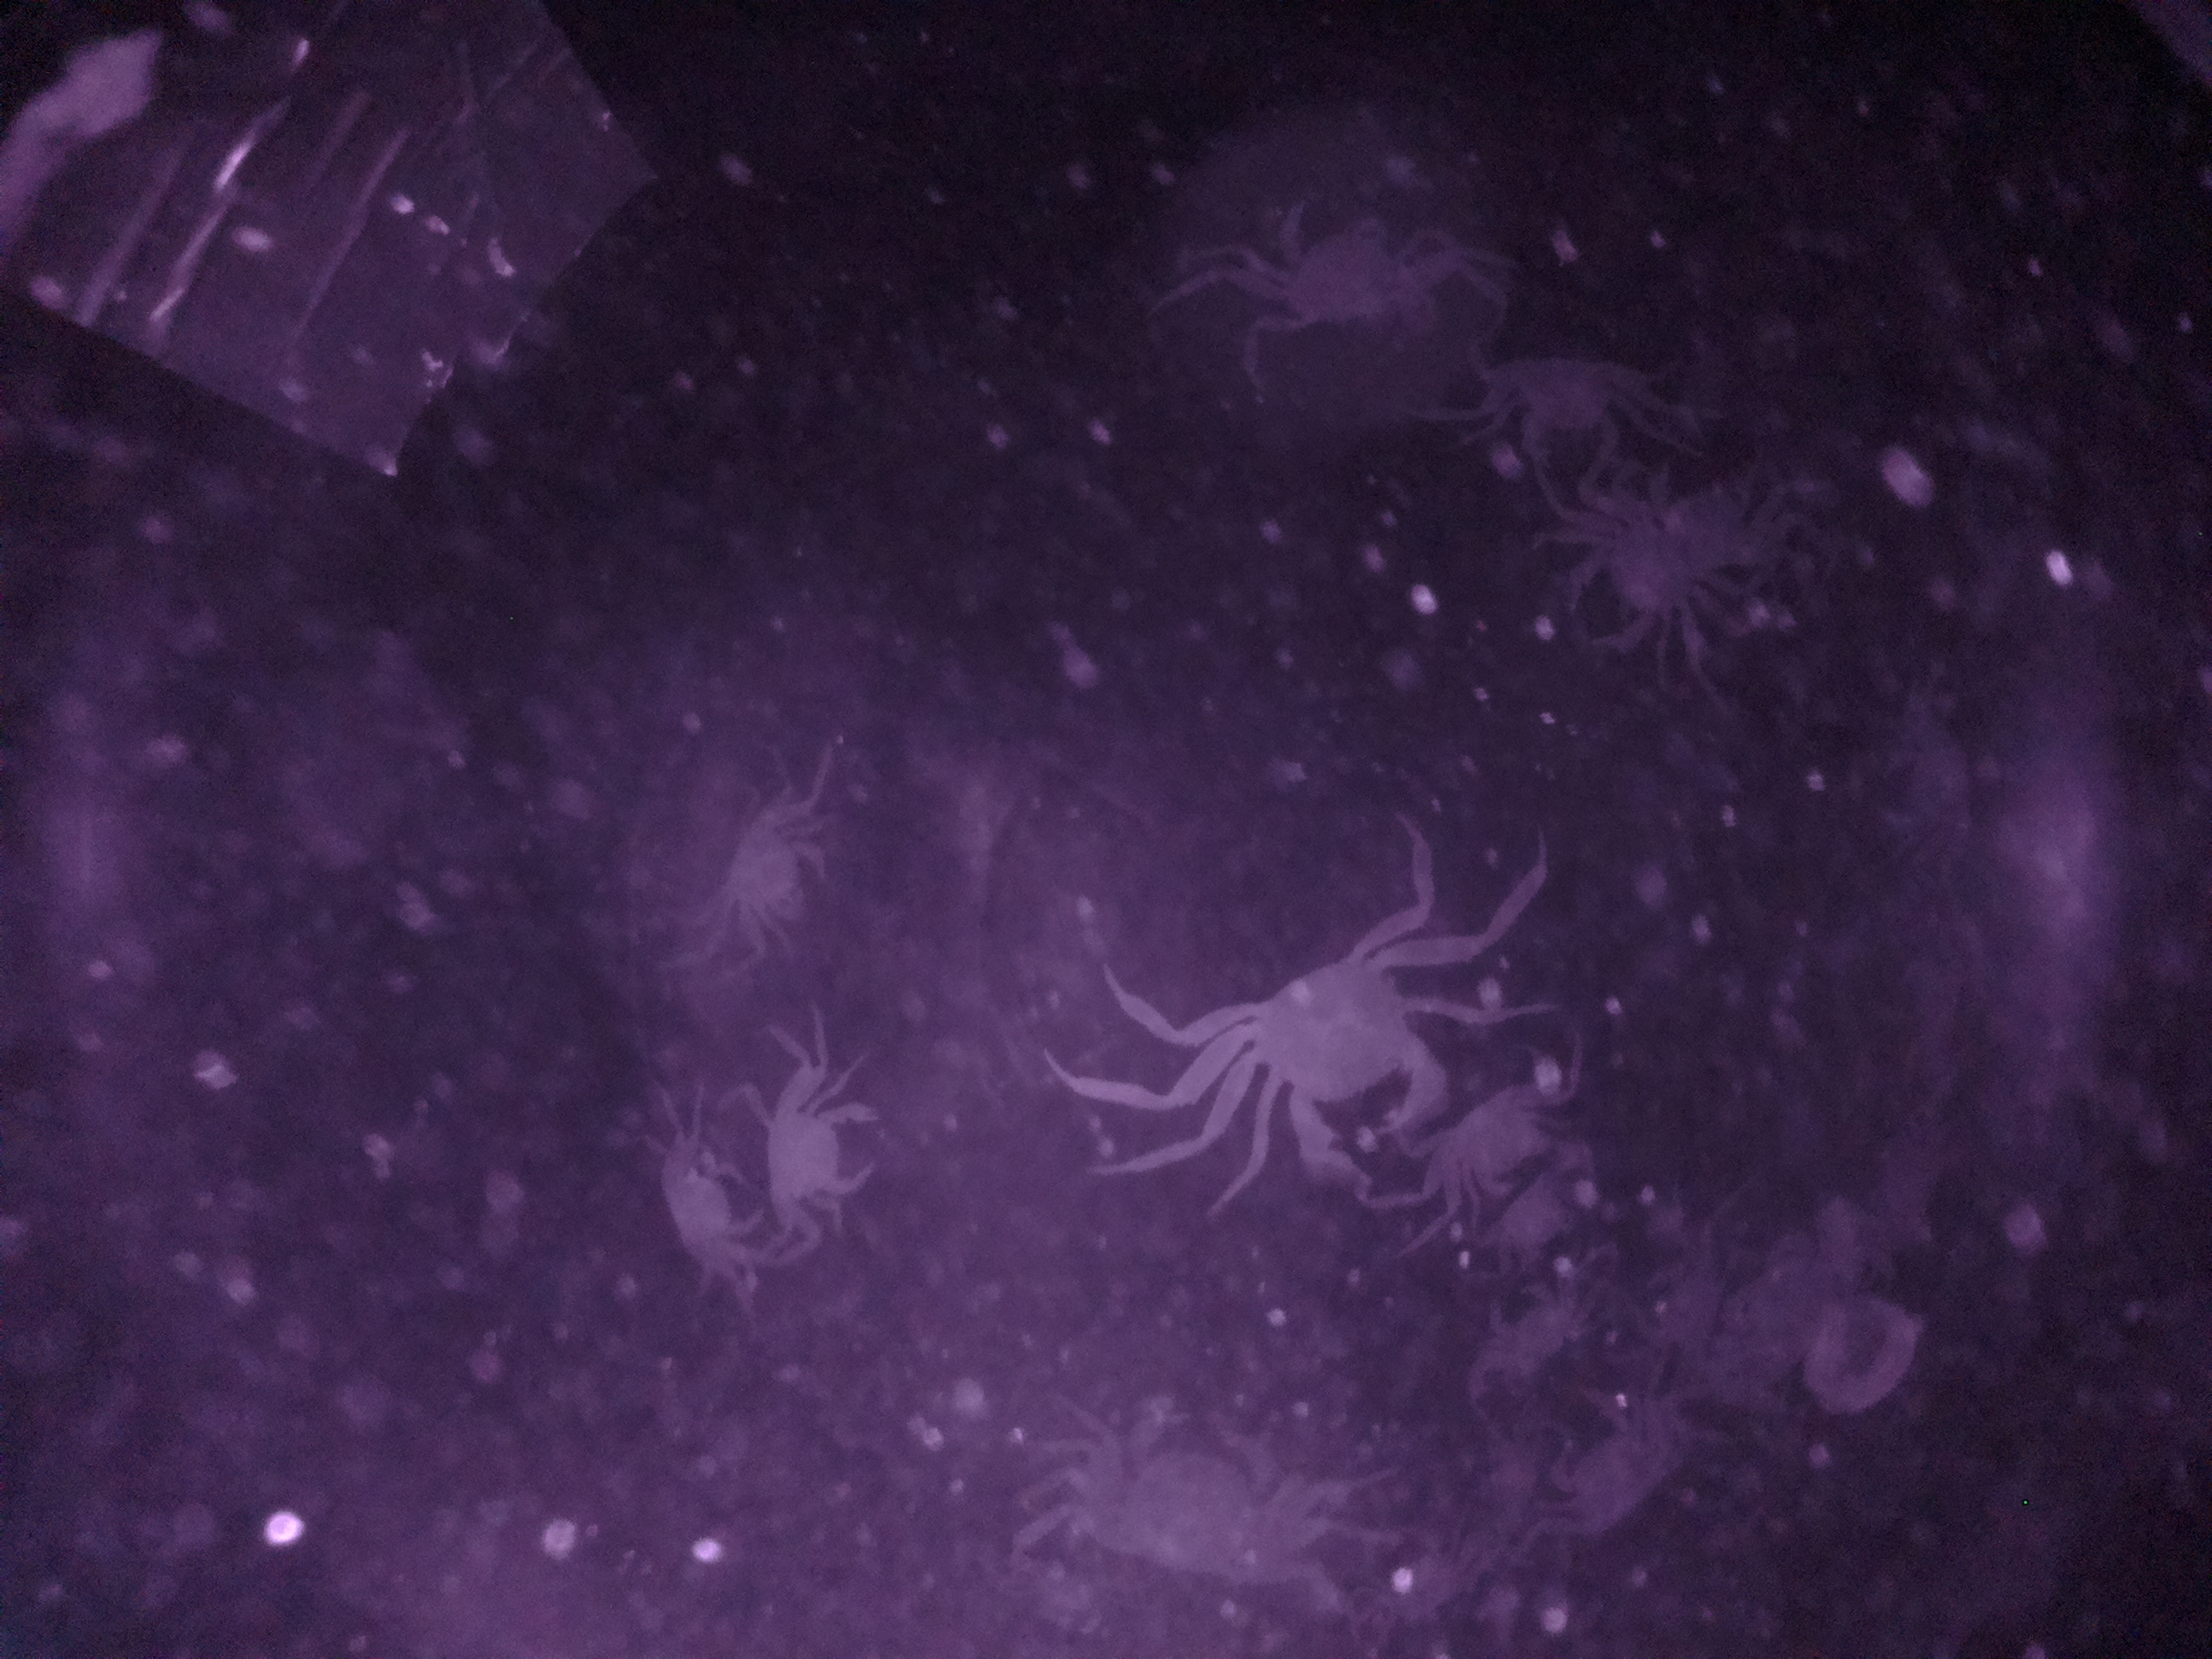Crab: (1197, 911, 1456, 1209), (1052, 1363, 1310, 1596), (1507, 1371, 1689, 1556), (637, 1110, 763, 1331), (754, 1047, 894, 1239), (1482, 338, 1646, 498), (700, 784, 841, 962), (1468, 1244, 1602, 1408), (1430, 1061, 1559, 1220)
